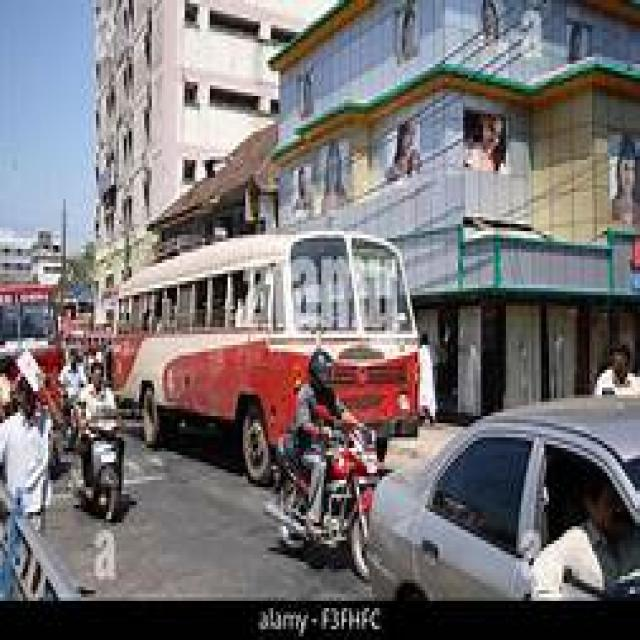Bus: (114, 232, 418, 482)
Car: (370, 401, 639, 600)
Two Wheeler: (265, 430, 380, 579), (80, 436, 124, 521)
